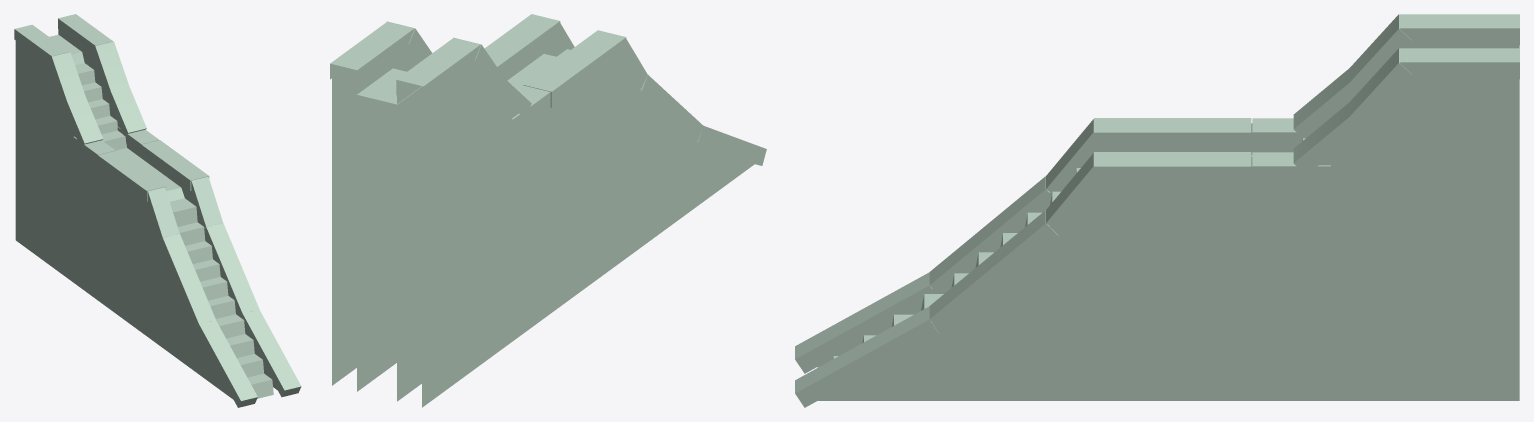
The picture shows the model from 3 angles, left to right: view 1: azimuth 30°, elevation 25°; view 2: azimuth 150°, elevation 25°; view 3: azimuth 270°, elevation 25°; orthographic projection. The views are drawn at different scales.
Visible parts, largest first — view 1: Object13; view 2: Object13; view 3: Object13.
Part boxes in pixels (x1,y1,x2,y2): Object13: (14,14,301,407); Object13: (330,14,766,407); Object13: (795,14,1519,407).
Bounding box in the file's own units: 101 × 340 × 637.
